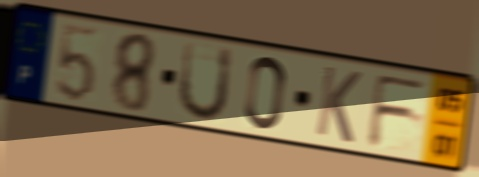0: (243, 54, 288, 132)
5: (53, 20, 100, 104)
8: (108, 31, 159, 114)
F: (365, 71, 431, 149)
K: (313, 62, 365, 147)
U: (174, 38, 236, 124)
